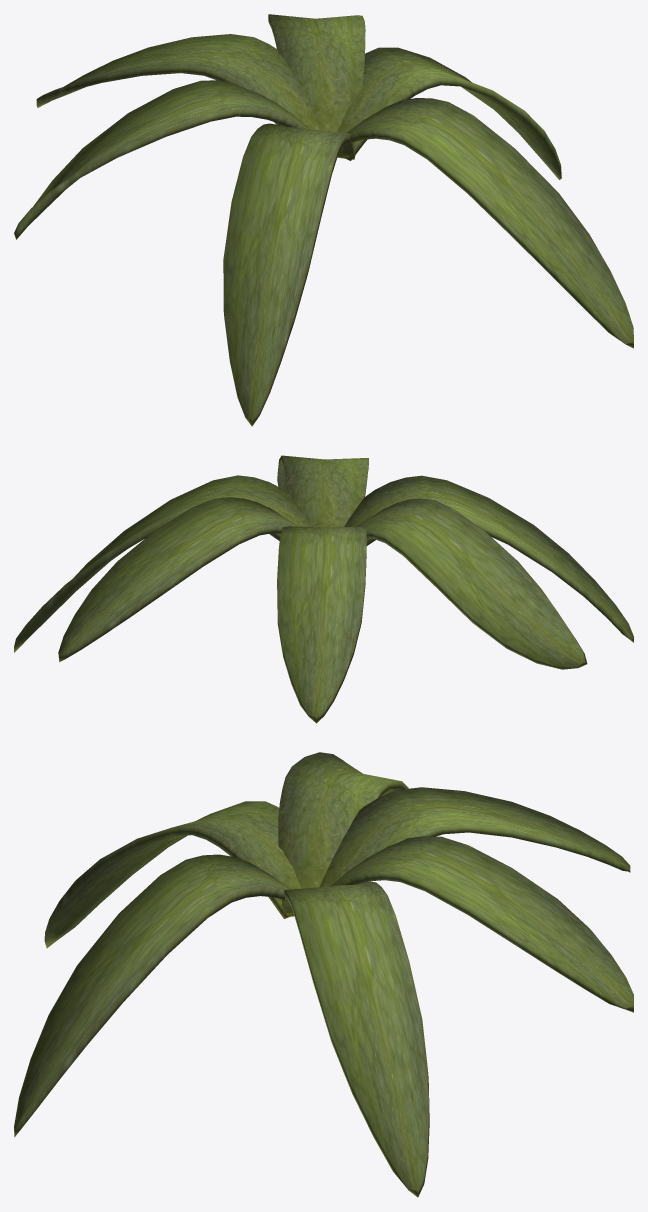
File: calyx10_1002.dae
The picture shows the model from 3 angles, top to bottom: view 1: azimuth 30°, elevation 25°; view 2: azimuth 150°, elevation 25°; view 3: azimuth 270°, elevation 25°; orthographic projection. The views are drawn at different scales.
Parts seen in each view (by area): view 1: calyx9_002, calyx9_001, calyx8_002, calyx6_002, calyx6_003, calyx9; view 2: calyx8_002, calyx6_002, calyx6_003, calyx9_002, calyx9, calyx9_001; view 3: calyx9, calyx9_001, calyx6_003, calyx6_002, calyx9_002, calyx8_002.
Part boxes in pixels (x1,y1,x2,y2): calyx9_002: (223, 123, 355, 426); calyx9_001: (342, 98, 633, 348); calyx8_002: (14, 80, 338, 239); calyx6_002: (36, 34, 320, 130); calyx6_003: (268, 14, 365, 131); calyx9: (337, 47, 561, 179); calyx8_002: (355, 498, 587, 669); calyx6_002: (277, 526, 366, 723); calyx6_003: (58, 497, 298, 662); calyx9_002: (344, 475, 633, 642); calyx9: (14, 475, 311, 652); calyx9_001: (277, 455, 368, 527); calyx9: (282, 881, 429, 1197); calyx9_001: (14, 854, 290, 1137); calyx6_003: (330, 836, 633, 1012); calyx6_002: (319, 787, 630, 887); calyx9_002: (44, 801, 301, 948); calyx8_002: (278, 752, 408, 888).
Size of the model in its own units: 0.1304 by 0.115 by 0.0455.
6 materials, 6 textured.
